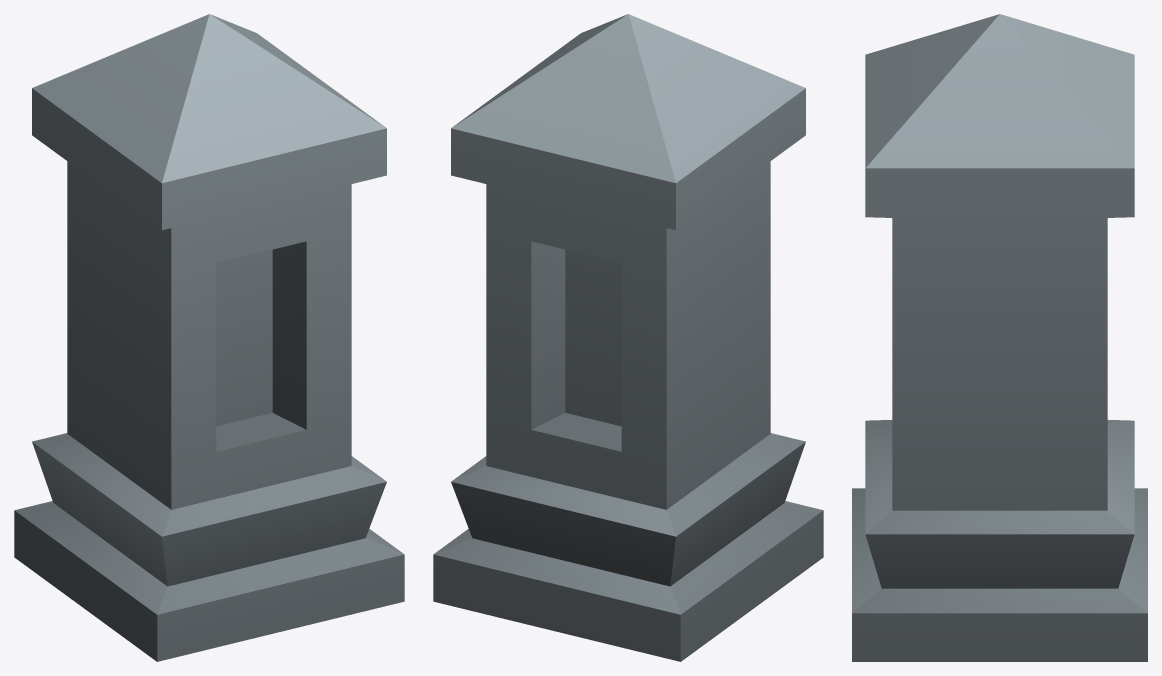
The model's file is shrine.obj.
3 views of the same model, side by side, from view 1: azimuth 30°, elevation 25°; view 2: azimuth 150°, elevation 25°; view 3: azimuth 270°, elevation 25° (orthographic). The views are drawn at different scales.
Visible parts, largest first — view 1: shrine_Cube.112; view 2: shrine_Cube.112; view 3: shrine_Cube.112.
Boxes of the visible parts, x1,y1,x2,y2 form: shrine_Cube.112: [14, 14, 404, 661]; shrine_Cube.112: [433, 14, 823, 661]; shrine_Cube.112: [852, 14, 1147, 661].
Bounding box in the file's own units: 1.1 × 2.4 × 1.1.
1 material, 1 textured.
